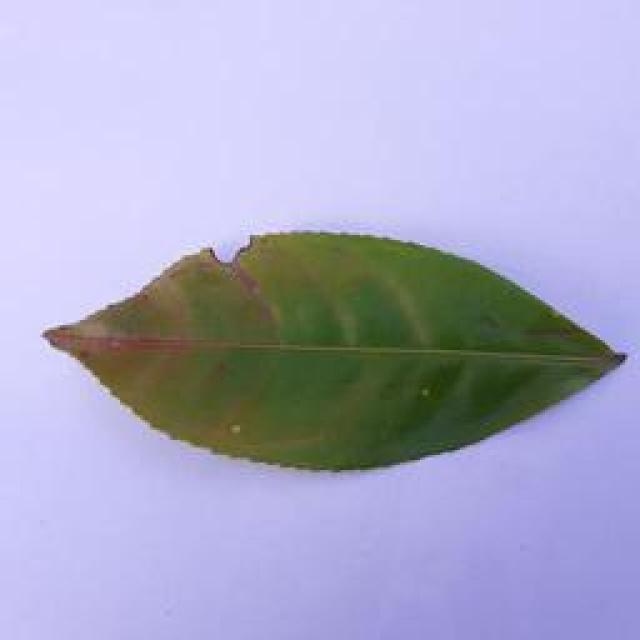Red Leaf Spot: (33, 212, 633, 470)
